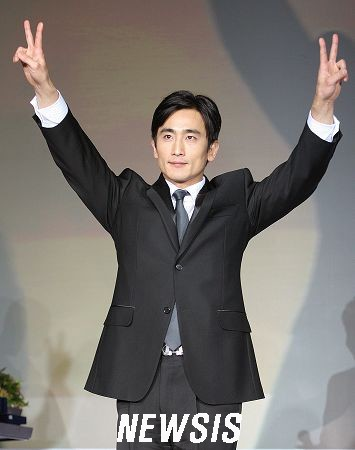face: (151, 109, 221, 181)
hand: (314, 31, 350, 102), (13, 19, 49, 88)
